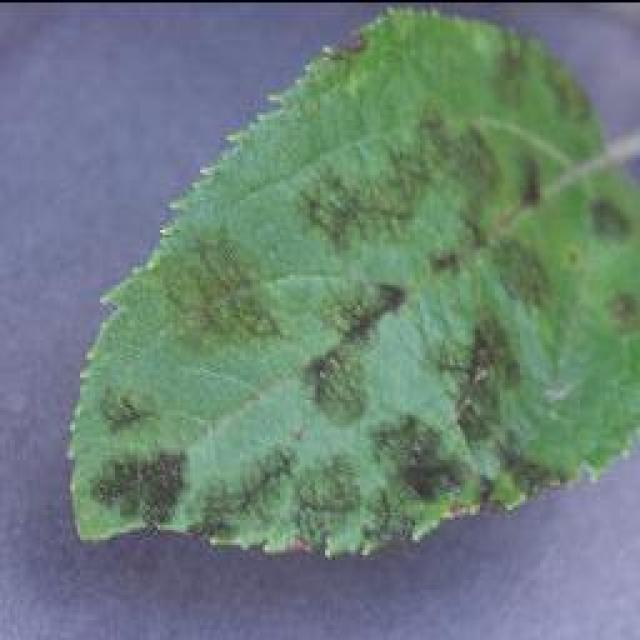apple scab disease: (62, 2, 638, 560)
